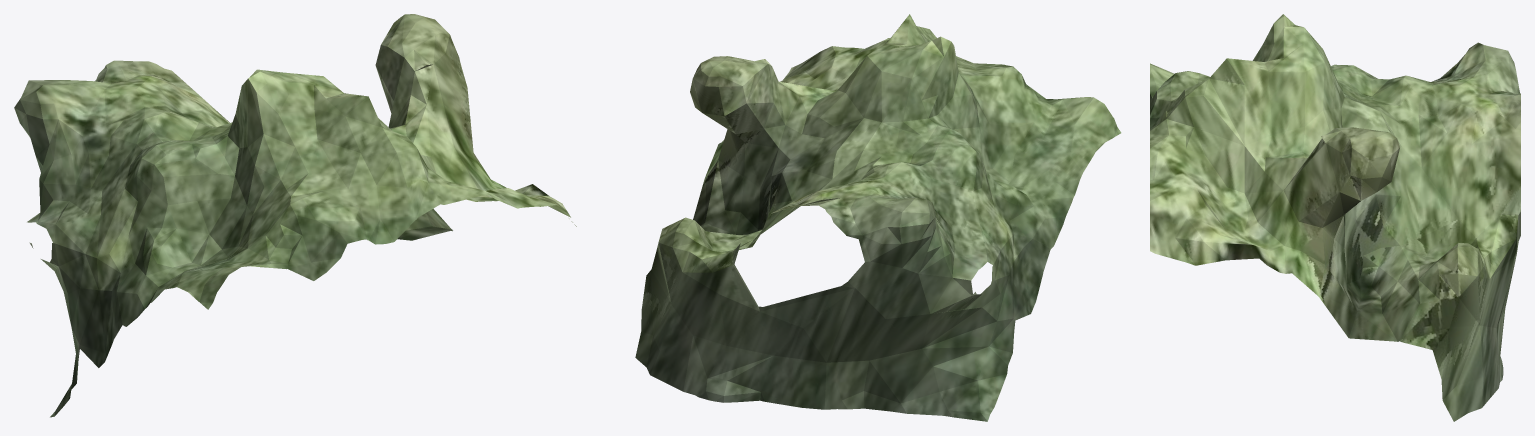
3 views of the same model, side by side, from view 1: azimuth 30°, elevation 25°; view 2: azimuth 150°, elevation 25°; view 3: azimuth 270°, elevation 25° (orthographic). The views are drawn at different scales.
Bounding box in the file's own units: 2.95 × 2.65 × 2.95.
Materials: 5 (5 with a texture image).
